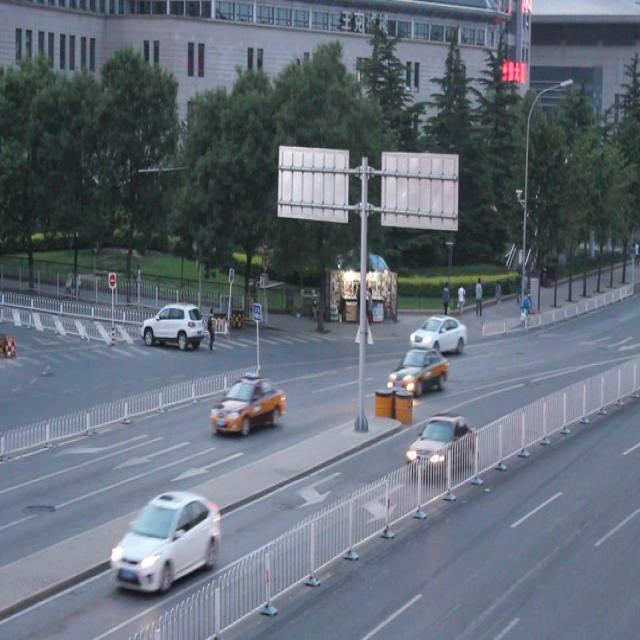car: (110, 488, 218, 594), (210, 370, 286, 437), (405, 414, 476, 476), (387, 346, 448, 395), (140, 302, 202, 350), (410, 312, 466, 352)
